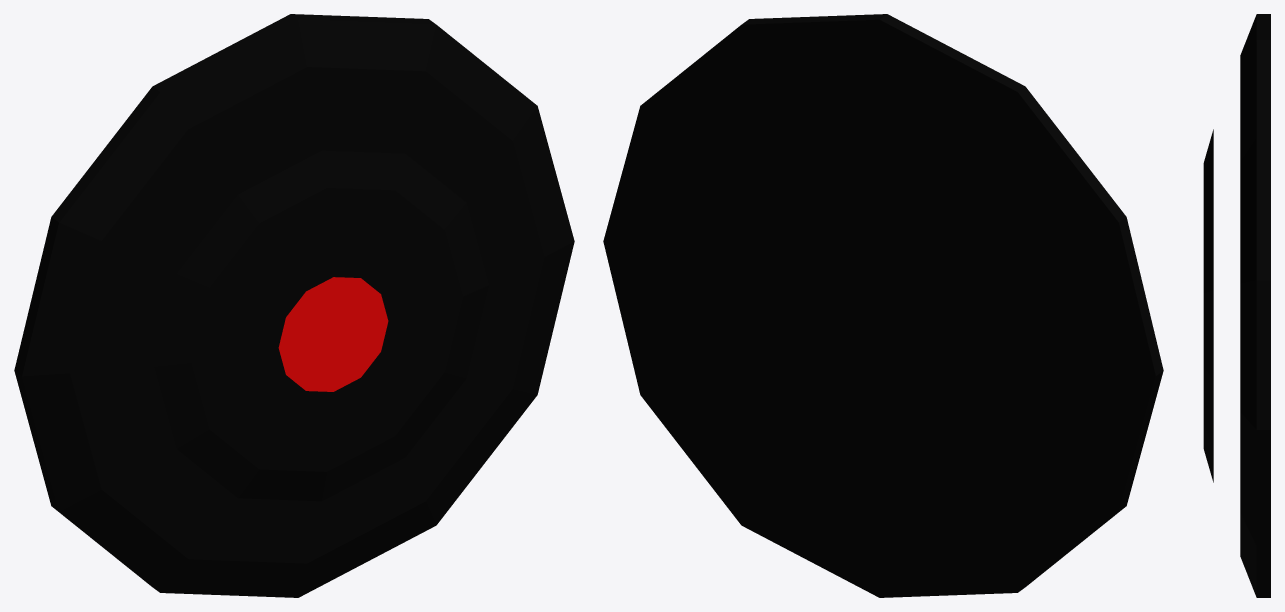
The model's file is Diana1.fbx.
3 renders of one model, left to right at view 1: azimuth 30°, elevation 25°; view 2: azimuth 150°, elevation 25°; view 3: azimuth 270°, elevation 25°, orthographic. The views are drawn at different scales.
Parts seen in each view (by area): view 1: Object003; view 2: Object003; view 3: Object003.
Part boxes in pixels (x1,y1,x2,y2): Object003: [14, 14, 574, 597]; Object003: [603, 14, 1163, 597]; Object003: [1203, 14, 1270, 597].
Bounding box in the file's own units: 27.75 × 27.75 × 3.73.
